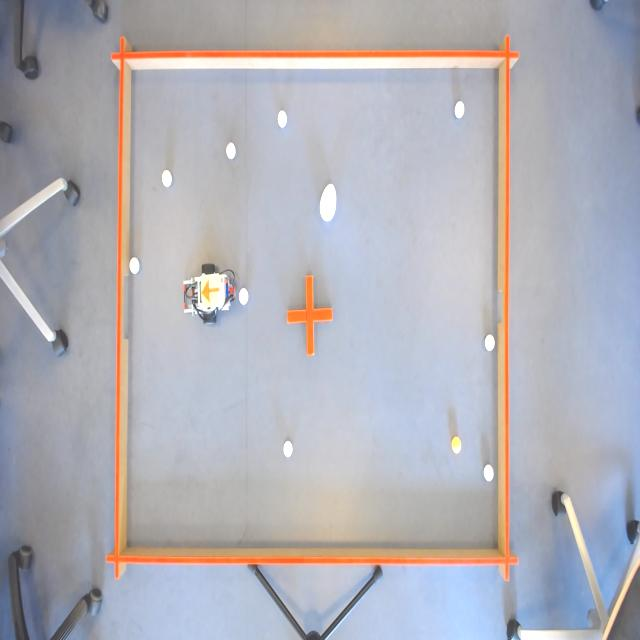cross: (286, 272, 333, 356)
egg: (318, 179, 338, 224)
orange_ball: (450, 433, 462, 458)
robot: (201, 274, 222, 306)
white_ball: (453, 98, 468, 122), (128, 251, 141, 277), (224, 138, 237, 164), (282, 438, 296, 462), (484, 333, 498, 357), (276, 107, 289, 131), (161, 167, 174, 189), (482, 461, 494, 484), (238, 284, 249, 309)
